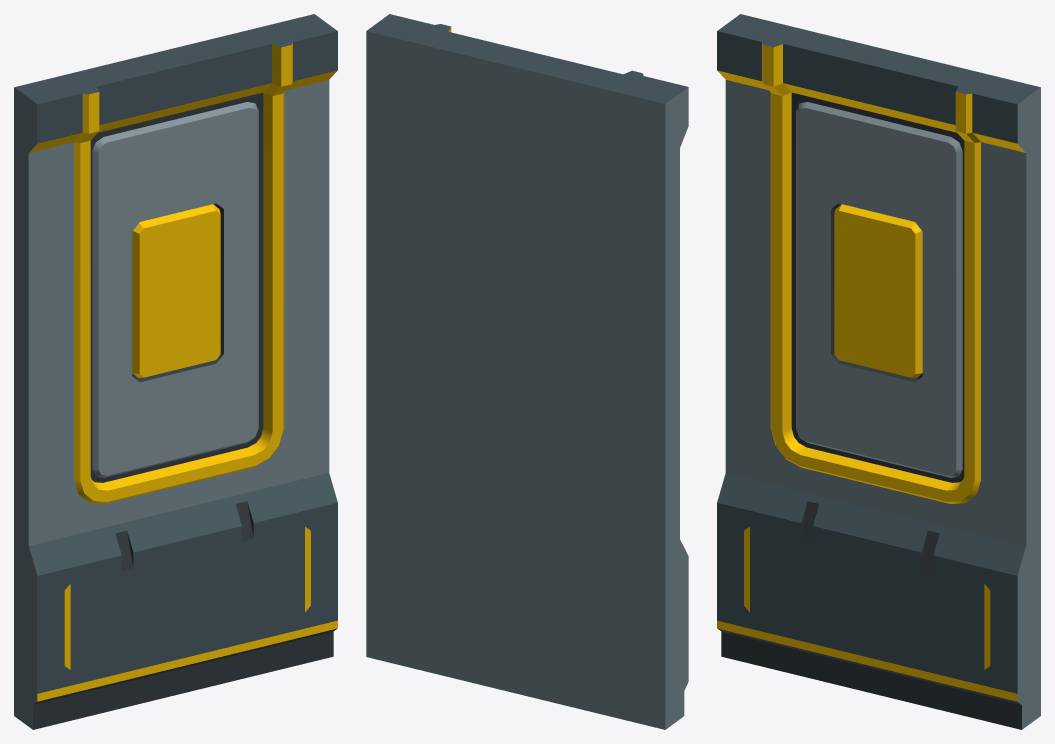
Rendered from Wall_type_C_021.glb.
3 views of the same model, side by side, from view 1: azimuth 30°, elevation 25°; view 2: azimuth 150°, elevation 25°; view 3: azimuth 330°, elevation 25° (orthographic).
Parts seen in each view (by area): view 1: Wall_type_C_021; view 2: Wall_type_C_021; view 3: Wall_type_C_021.
Boxes of the visible parts, x1,y1,x2,y2 form: Wall_type_C_021: (14, 14, 337, 729); Wall_type_C_021: (366, 14, 688, 729); Wall_type_C_021: (717, 14, 1040, 729).
Bounding box in the file's own units: 2 × 4 × 0.2998.
Materials: 1 (1 with a texture image).
